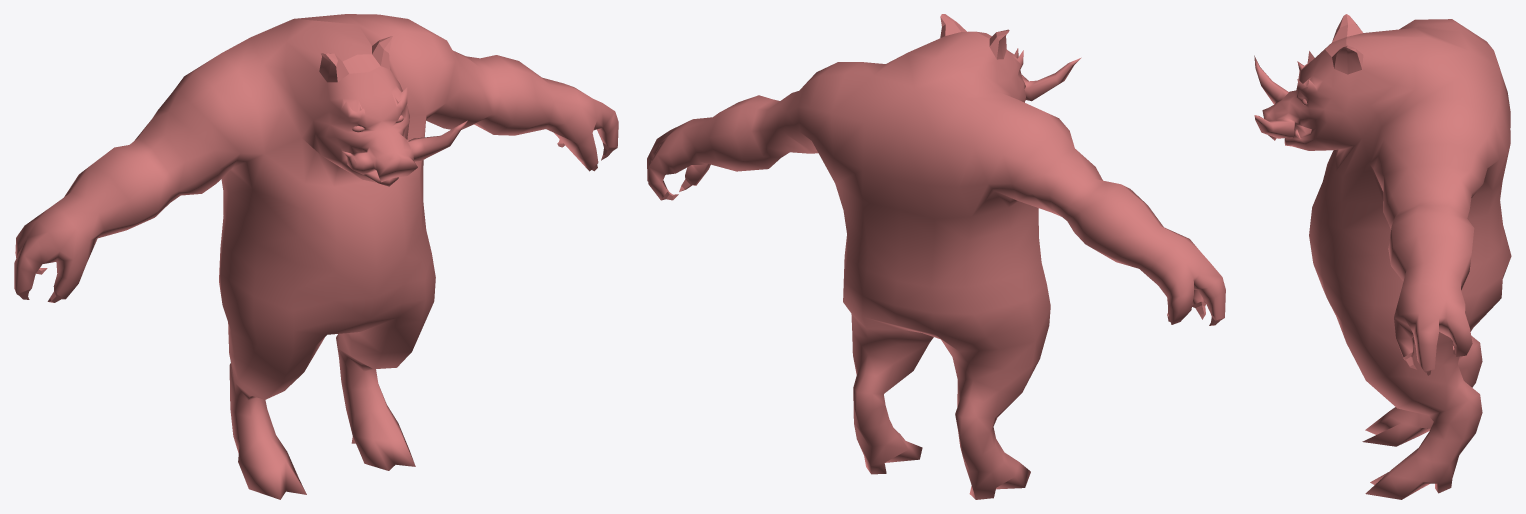
The model's file is jabali.FBX.
The picture shows the model from 3 angles, left to right: view 1: azimuth 30°, elevation 25°; view 2: azimuth 150°, elevation 25°; view 3: azimuth 270°, elevation 25°; orthographic projection. The views are drawn at different scales.
Visible parts, largest first — view 1: cadnav; view 2: cadnav; view 3: cadnav.
Boxes of the visible parts, x1=… form: cadnav: x1=14, y1=14, x2=618, y2=499; cadnav: x1=647, y1=14, x2=1225, y2=499; cadnav: x1=1254, y1=14, x2=1511, y2=499.
Bounding box in the file's own units: 180 × 128 × 69.13.
